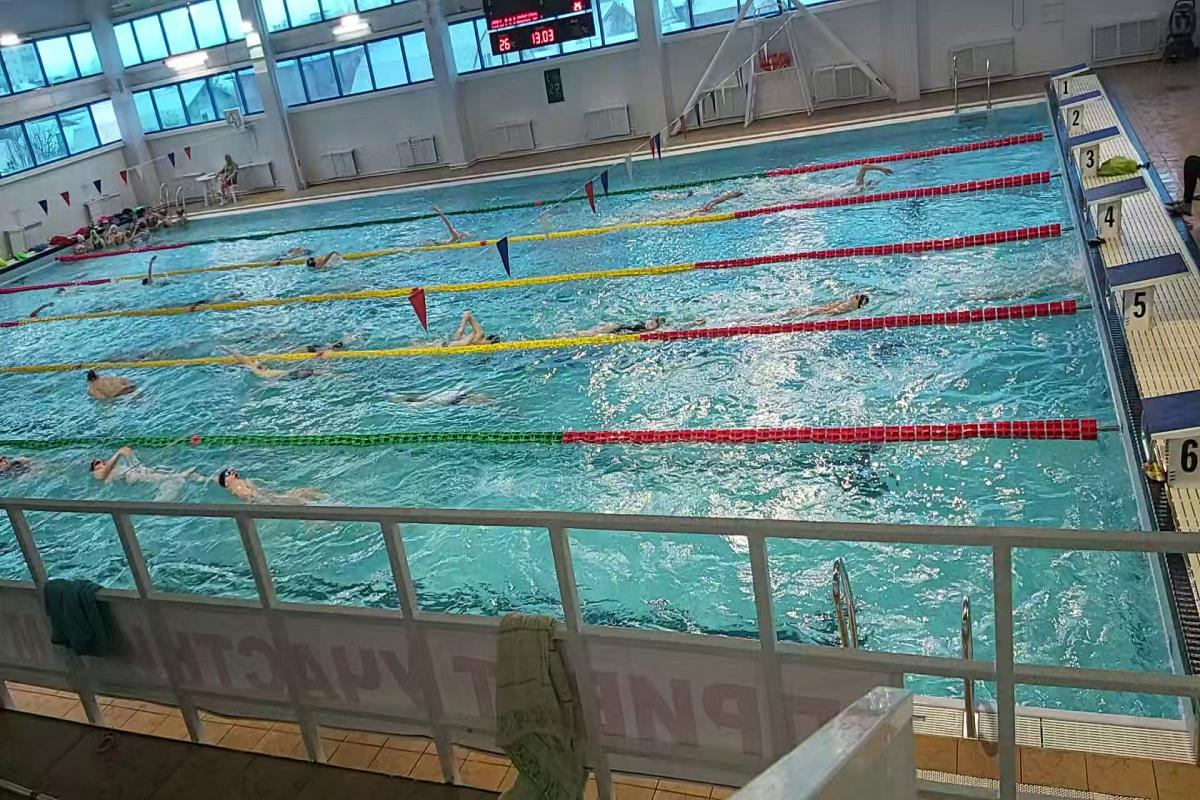swimmer: (79, 441, 200, 492), (215, 456, 332, 508), (216, 347, 332, 389), (375, 380, 503, 414), (586, 302, 706, 336), (770, 283, 872, 318), (445, 301, 503, 350), (837, 149, 902, 192), (84, 360, 142, 400), (424, 208, 484, 242), (662, 188, 753, 210), (298, 247, 348, 275), (134, 261, 174, 286)
